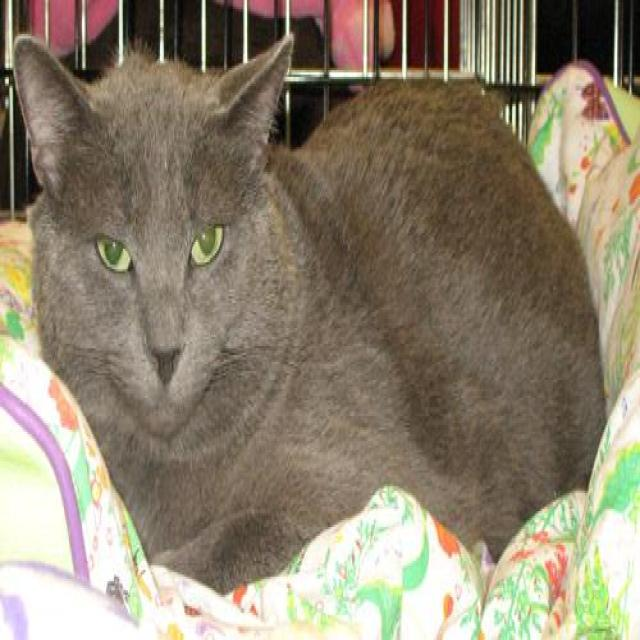Cats: (12, 27, 608, 593)
